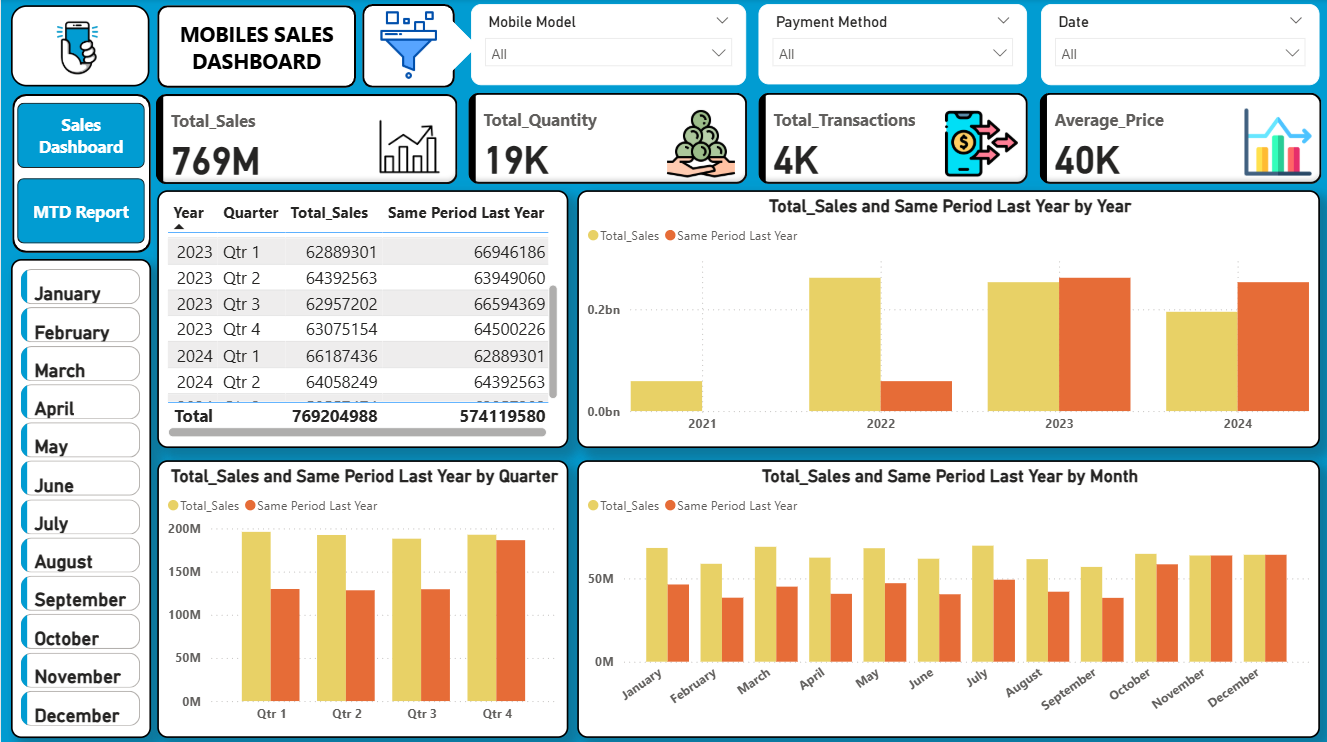

This screenshot's page, from the dashboard's own definition file:
{"tool":"powerbi","page":{"name":"Same Period Last Year","canvas":[1280,720],"ordinal":2},"visuals":[{"type":"textbox","box":[9.7,6,133.9,78.4],"z":0},{"type":"advancedSlicerVisual","fields":{"Values":["Custom_calendar.Date.Variation.Date Hierarchy.Month"]},"box":[9.7,250.9,135.1,462.1],"z":1000},{"type":"cardVisual","fields":{"Data":["Sales.Total_Sales"]},"box":[144.8,86.9,301.6,97.7],"z":2000},{"type":"cardVisual","fields":{"Data":["Sales.Total_Quantity"]},"box":[446.4,85.7,279.9,98.9],"z":3000},{"type":"cardVisual","fields":{"Data":["Sales.Total_Transactions"]},"box":[726.3,85.7,270.2,98.9],"z":4000},{"type":"cardVisual","fields":{"Data":["Sales.Total_Average"]},"box":[997.7,85.7,282.3,98.9],"z":5000},{"type":"image","box":[24.1,8.4,98.9,77.2],"z":13000},{"type":"shape","box":[10.9,91.7,133.9,153.2],"z":14000},{"type":"shape","box":[150.8,6,191.8,79.6],"z":17000},{"type":"shape","box":[348.7,4.8,89.3,80.8],"z":18000},{"type":"image","box":[348.7,6,89.3,77.2],"z":19000},{"type":"shape","box":[400.5,20.5,59.1,49.5],"z":20000},{"type":"slicer","fields":{"Values":["Sales.Mobile Model"]},"box":[453.6,4.8,265.4,78.4],"z":21000},{"type":"slicer","fields":{"Values":["Sales.Payment Method"]},"box":[731.1,4.8,259.4,77.2],"z":22000},{"type":"slicer","fields":{"Values":["Custom_calendar.Date.Variation.Date Hierarchy.Year","Custom_calendar.Date.Variation.Date Hierarchy.Quarter","Custom_calendar.Date.Variation.Date Hierarchy.Month","Custom_calendar.Date.Variation.Date Hierarchy.Day"]},"box":[1003.8,4.8,269,78.4],"z":23000},{"type":"tableEx","fields":{"Values":["Custom_calendar.Date.Variation.Date Hierarchy.Year","Custom_calendar.Date.Variation.Date Hierarchy.Quarter","Sales.Total_Sales","Sales.Same Period Last Year"]},"box":[150.8,184.6,396.9,248.5],"z":23001},{"type":"clusteredColumnChart","fields":{"Category":["Custom_calendar.Date.Variation.Date Hierarchy.Year","Custom_calendar.Date.Variation.Date Hierarchy.Quarter"],"Y":["Sales.Total_Sales","Sales.Same Period Last Year"]},"box":[556.2,184.6,716.6,248.5],"z":23002},{"type":"clusteredColumnChart","fields":{"Category":["Custom_calendar.Date.Variation.Date Hierarchy.Year","Custom_calendar.Date.Variation.Date Hierarchy.Quarter"],"Y":["Sales.Total_Sales","Sales.Same Period Last Year"]},"box":[150.8,445.2,396.9,267.8],"z":23003},{"type":"clusteredColumnChart","fields":{"Y":["Sales.Total_Sales","Sales.Same Period Last Year"],"Category":["Custom_calendar.Date.Variation.Date Hierarchy.Year","Custom_calendar.Date.Variation.Date Hierarchy.Quarter","Custom_calendar.Date.Variation.Date Hierarchy.Month","Custom_calendar.Date.Variation.Date Hierarchy.Day"]},"box":[556.2,445.2,716.6,267.8],"z":23004},{"type":"pageNavigator","box":[15.7,100.1,123.1,136.3],"z":23005}]}

Visuals, with their boxes in screenshot pixels (x1, y1, x2, y2), scaled from the page's 1280x720 canvas onto the 1327x742 screenshot:
textbox: l=10, t=6, r=149, b=87
advancedSlicerVisual - Custom_calendar.Date.Variation.Date Hierarchy.Month: l=10, t=259, r=150, b=735
cardVisual - Sales.Total_Sales: l=150, t=90, r=463, b=190
cardVisual - Sales.Total_Quantity: l=463, t=88, r=753, b=190
cardVisual - Sales.Total_Transactions: l=753, t=88, r=1033, b=190
cardVisual - Sales.Total_Average: l=1034, t=88, r=1326, b=190
image: l=25, t=9, r=128, b=88
shape: l=11, t=95, r=150, b=252
shape: l=156, t=6, r=355, b=88
shape: l=362, t=5, r=454, b=88
image: l=362, t=6, r=454, b=86
shape: l=415, t=21, r=476, b=72
slicer - Sales.Mobile Model: l=470, t=5, r=745, b=86
slicer - Sales.Payment Method: l=758, t=5, r=1027, b=85
slicer - Custom_calendar.Date.Variation.Date Hierarchy.Year x Custom_calendar.Date.Variation.Date Hierarchy.Quarter: l=1041, t=5, r=1320, b=86
tableEx - Custom_calendar.Date.Variation.Date Hierarchy.Year x Custom_calendar.Date.Variation.Date Hierarchy.Quarter: l=156, t=190, r=568, b=446
clusteredColumnChart - Custom_calendar.Date.Variation.Date Hierarchy.Year x Custom_calendar.Date.Variation.Date Hierarchy.Quarter: l=577, t=190, r=1320, b=446
clusteredColumnChart - Custom_calendar.Date.Variation.Date Hierarchy.Year x Custom_calendar.Date.Variation.Date Hierarchy.Quarter: l=156, t=459, r=568, b=735
clusteredColumnChart - Sales.Total_Sales x Sales.Same Period Last Year: l=577, t=459, r=1320, b=735
pageNavigator: l=16, t=103, r=144, b=244
